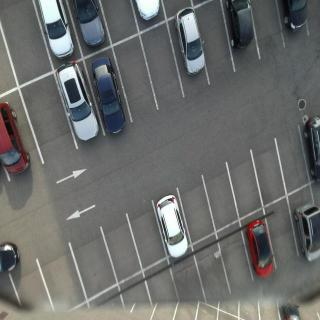car: (56, 60, 102, 145), (86, 55, 129, 138), (153, 192, 192, 262), (172, 8, 207, 82), (1, 99, 31, 181), (39, 1, 78, 63), (242, 217, 277, 282), (224, 2, 258, 55), (73, 2, 108, 53), (292, 200, 320, 263), (302, 112, 320, 185), (278, 1, 308, 35), (132, 2, 161, 26), (1, 241, 21, 275), (278, 303, 303, 320)
parking-space: (20, 87, 80, 170), (64, 227, 125, 305), (1, 1, 54, 89), (110, 44, 159, 129), (35, 240, 90, 314), (142, 22, 187, 111), (8, 255, 64, 320), (190, 234, 238, 308), (197, 1, 237, 88), (100, 213, 146, 287), (125, 202, 170, 271), (271, 127, 315, 197), (225, 149, 267, 222), (200, 163, 243, 234), (265, 193, 302, 273), (250, 135, 290, 209), (175, 176, 216, 247), (217, 221, 254, 296), (141, 256, 185, 315), (247, 1, 287, 62), (96, 1, 144, 50), (114, 268, 157, 315), (155, 2, 194, 22), (302, 2, 320, 39)
